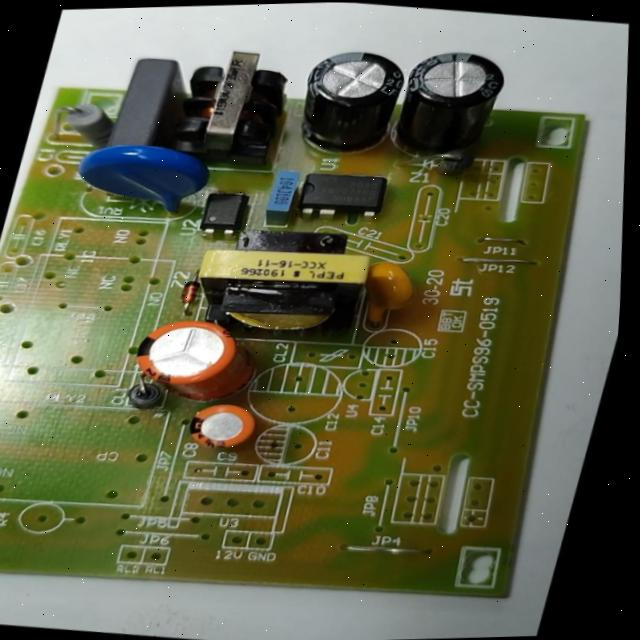Cap1: (119, 312, 266, 408)
Cap2: (181, 399, 260, 454)
Cap3: (281, 40, 415, 160)
Cap4: (377, 43, 514, 164)
MOSFET: (290, 166, 391, 220)
Mov: (62, 135, 222, 221)
Resistor: (49, 95, 118, 148)
Transformer: (175, 215, 384, 347), (158, 40, 301, 171)
